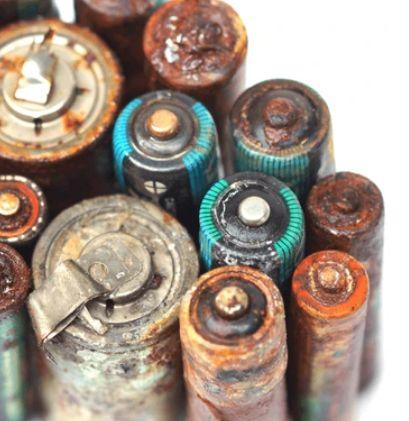battery: (32, 192, 202, 421), (0, 16, 125, 171), (181, 263, 290, 421), (114, 89, 225, 199), (231, 73, 337, 184), (144, 0, 251, 92), (200, 169, 299, 266), (304, 169, 388, 244), (290, 246, 372, 322), (0, 245, 33, 421), (0, 170, 53, 244)
